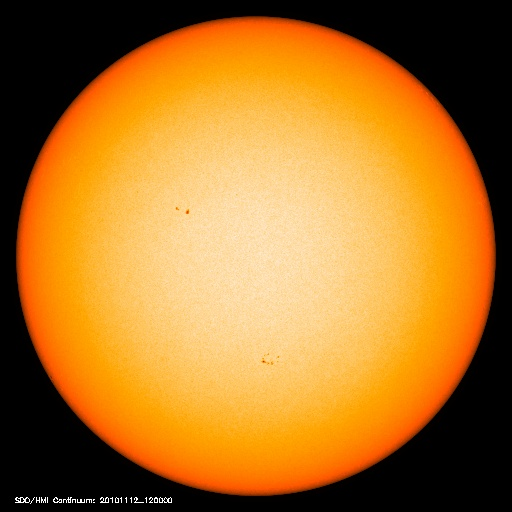sunspot: (252, 343, 291, 373), (162, 195, 203, 221)
